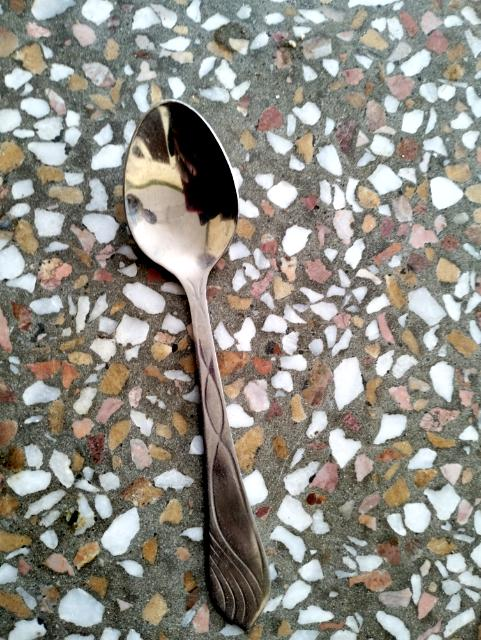Spoon: (125, 101, 269, 629)
